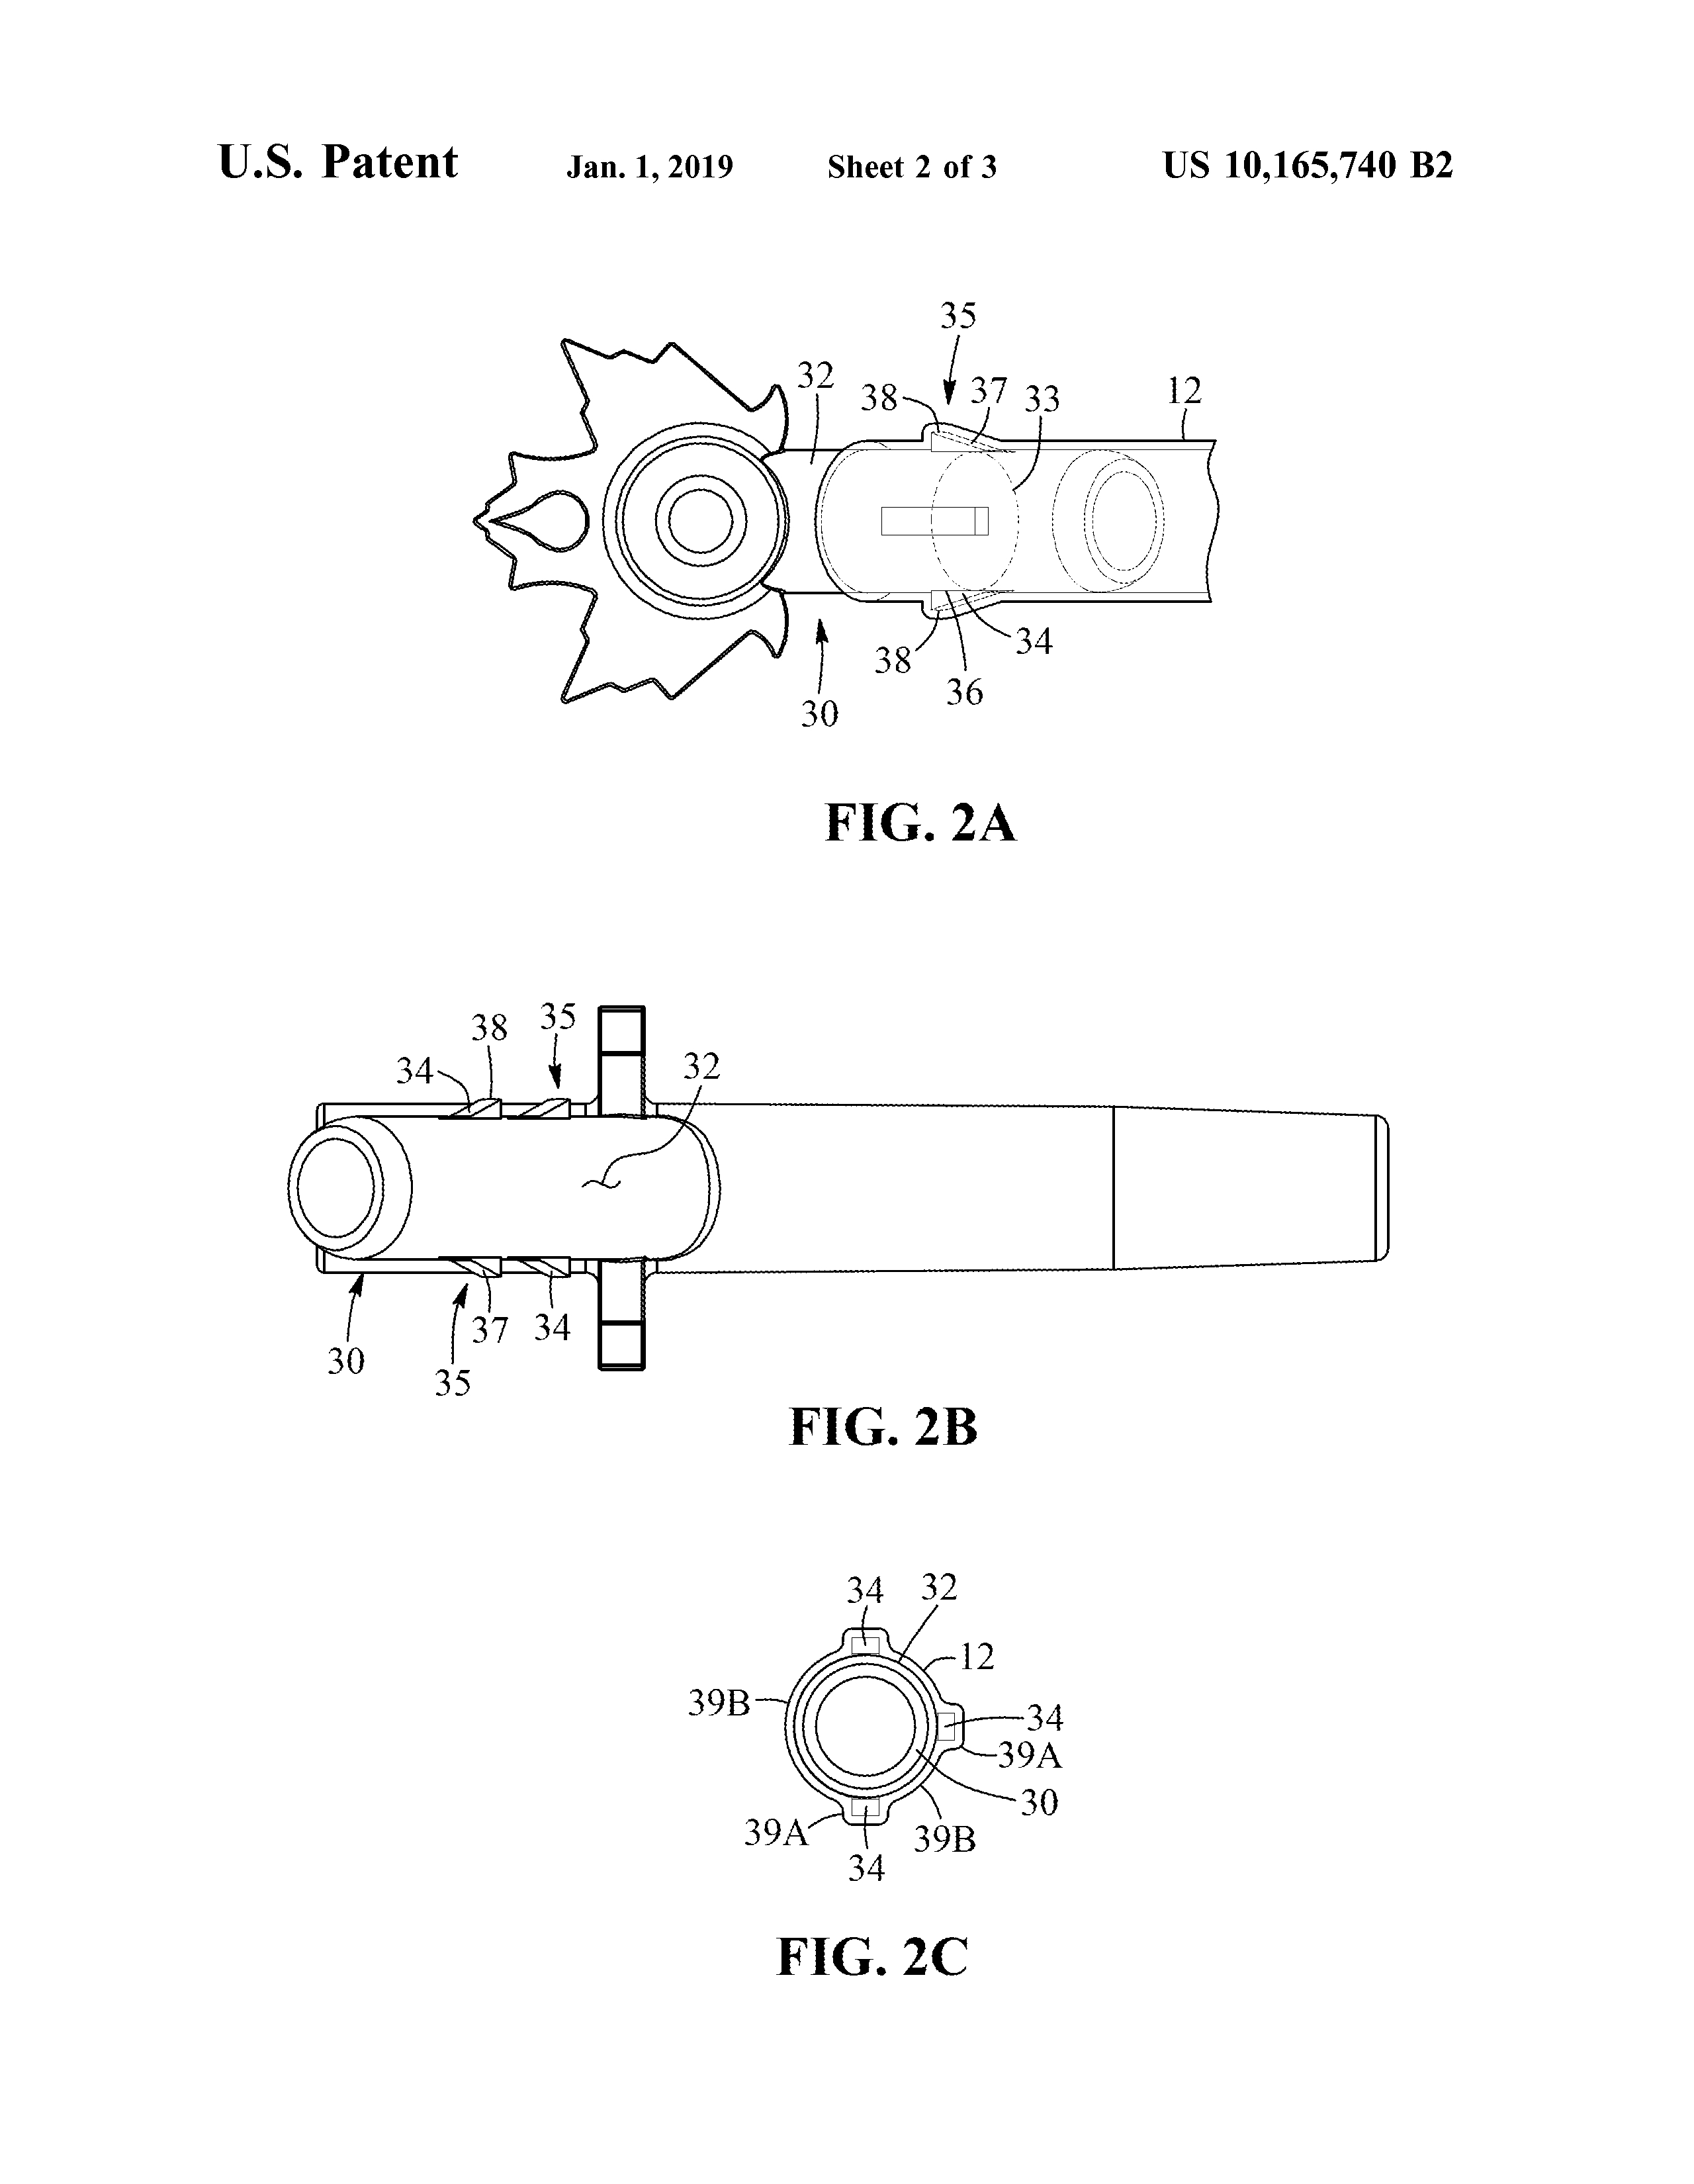patent image: (255, 968, 1439, 1503), (443, 306, 1295, 901), (652, 1553, 1116, 2002)
